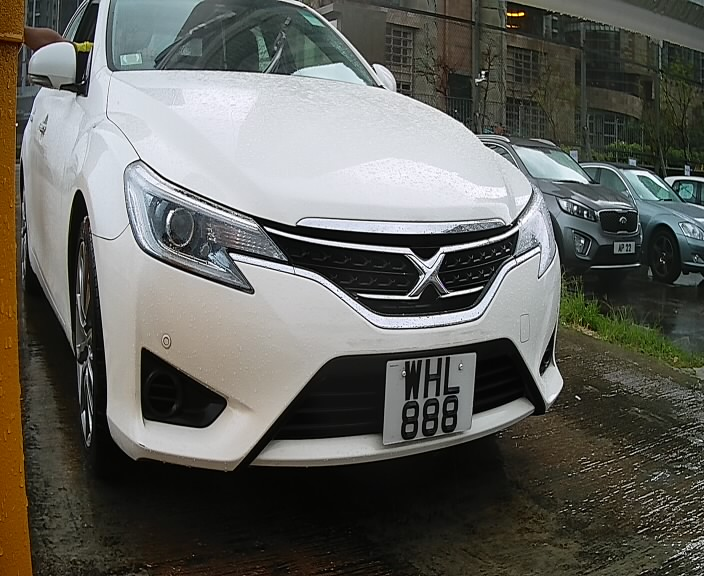License Plate: (375, 344, 490, 454)
